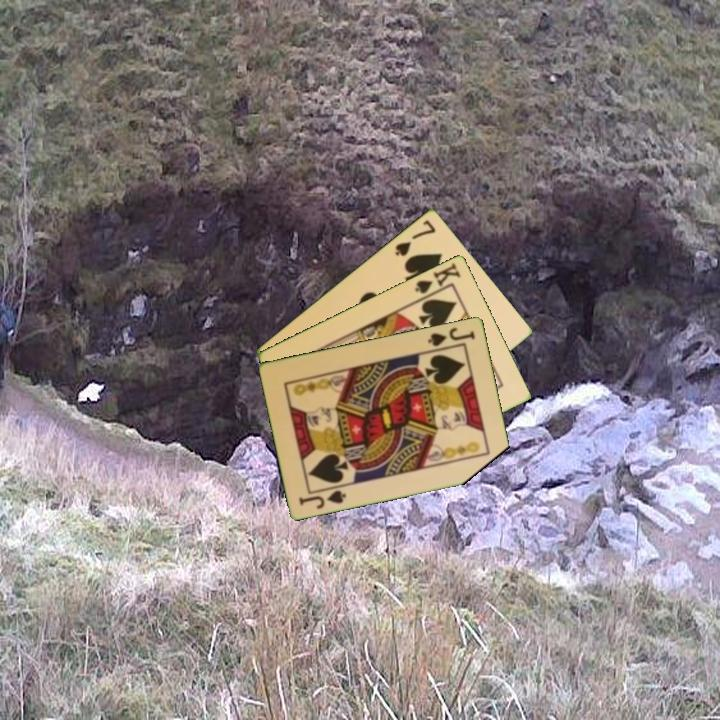7s: (391, 216, 439, 259)
Js: (295, 483, 349, 511), (424, 324, 478, 349)
Ks: (412, 259, 464, 296)
